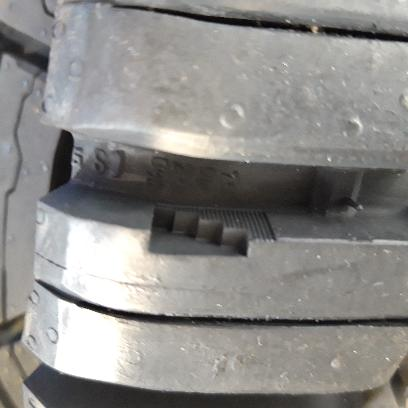temoin:100: (146, 200, 282, 266)
